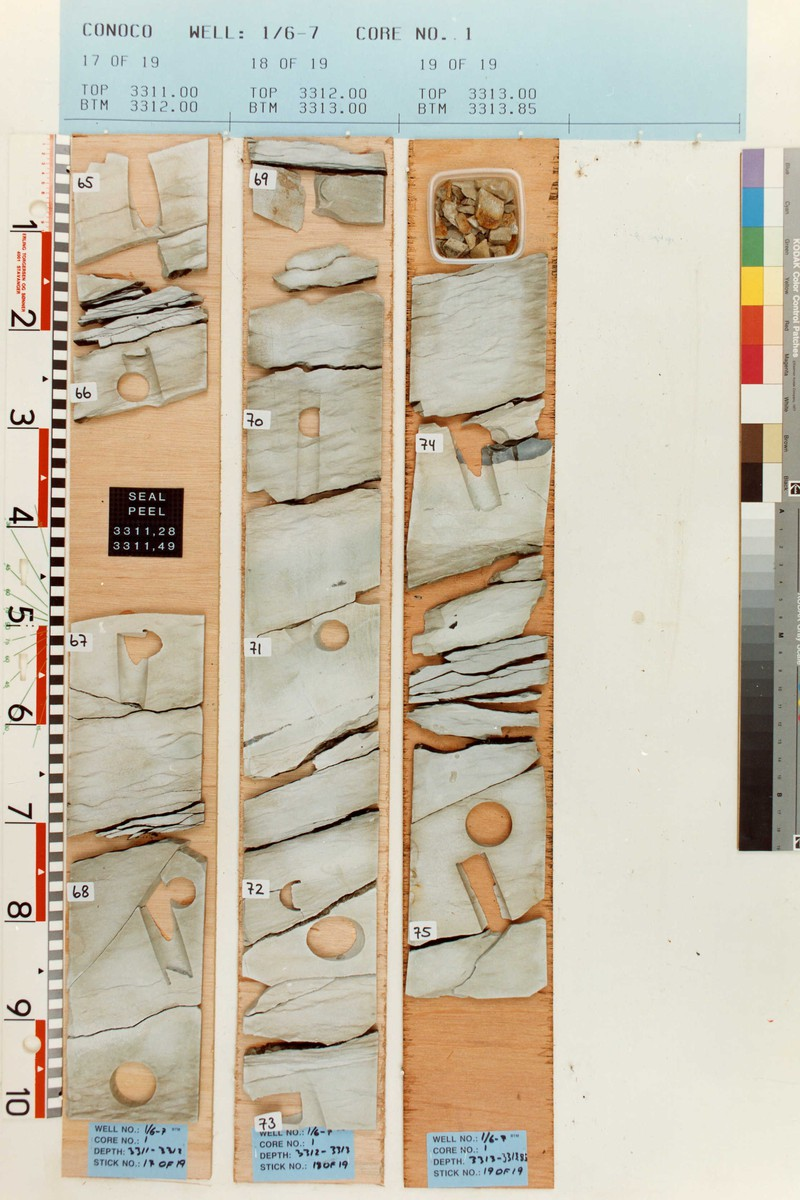core: (245, 138, 384, 1132), (405, 171, 552, 1004), (67, 611, 205, 1120), (68, 138, 209, 421)
